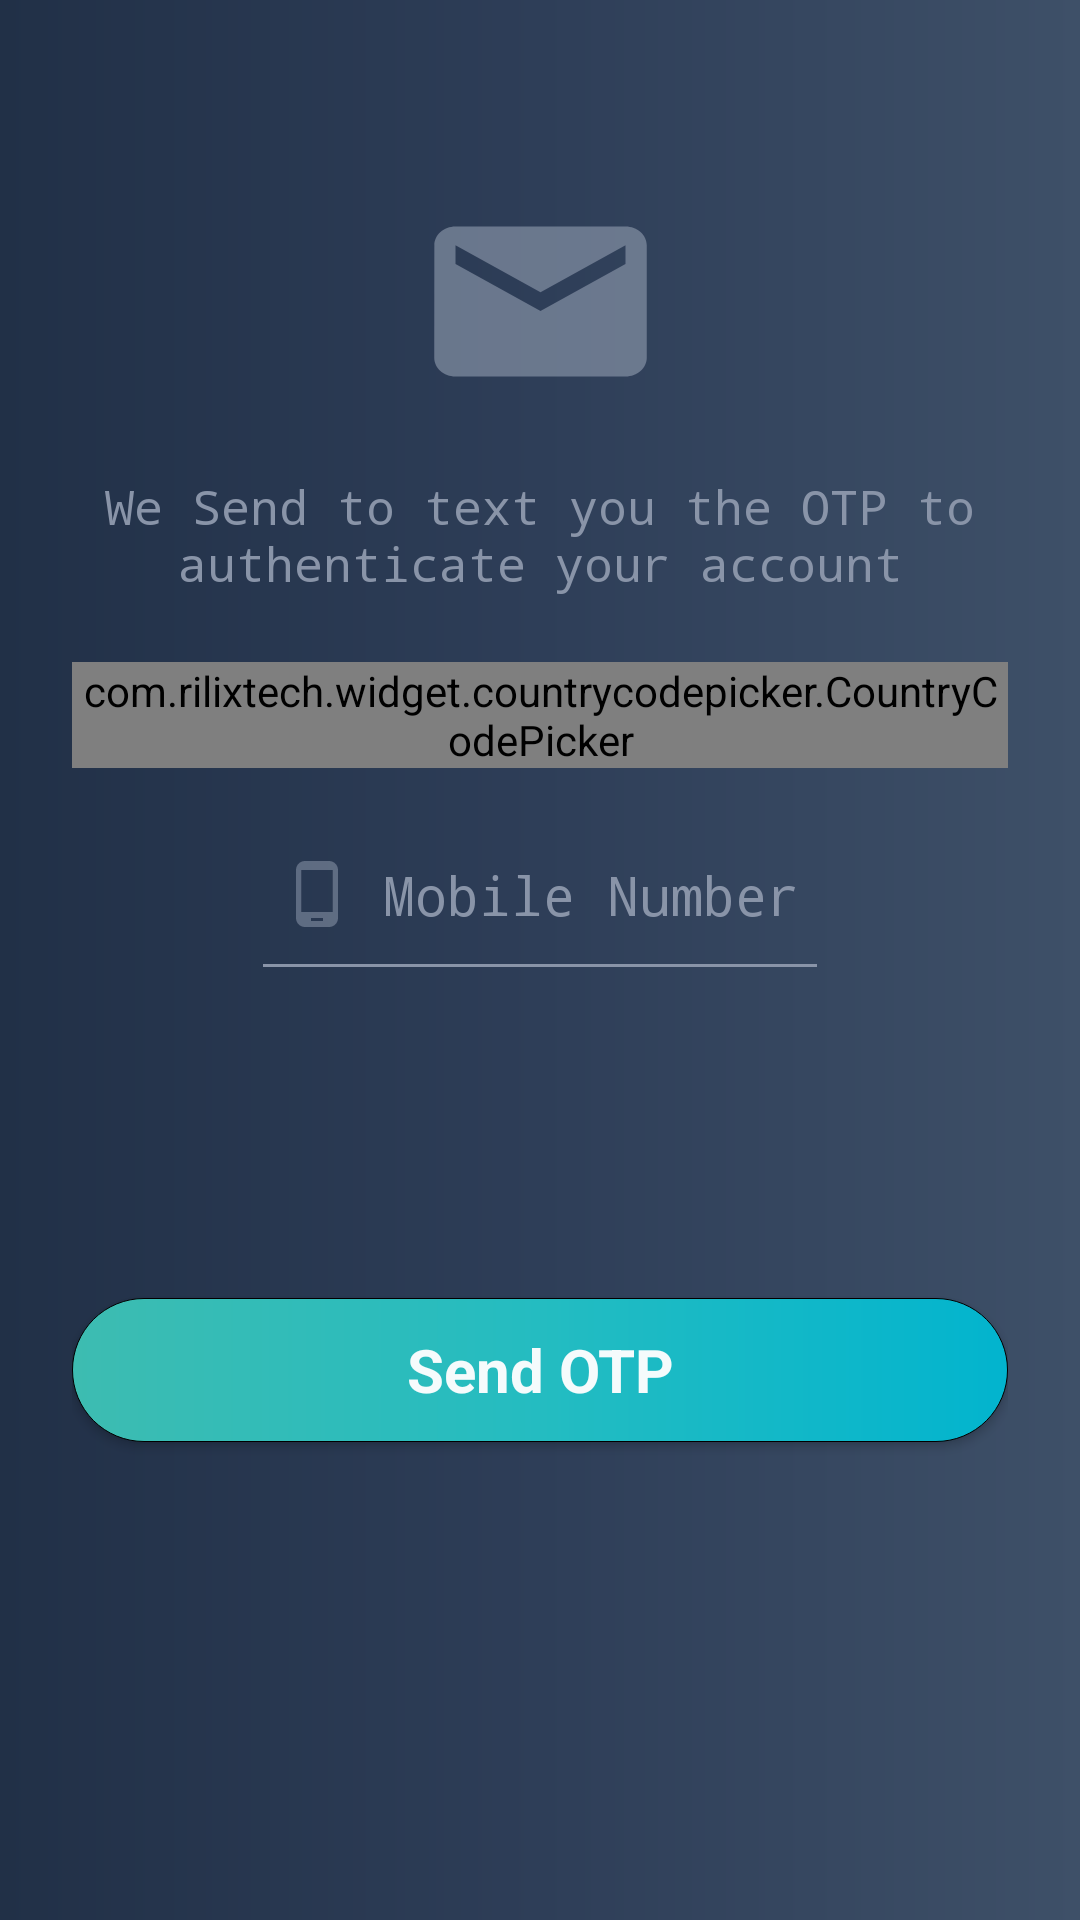

Locate icon controls on the screen. Image size 1080x1920, boxes as (x1, y1, x2, y2).
email: (434, 226, 647, 377)
